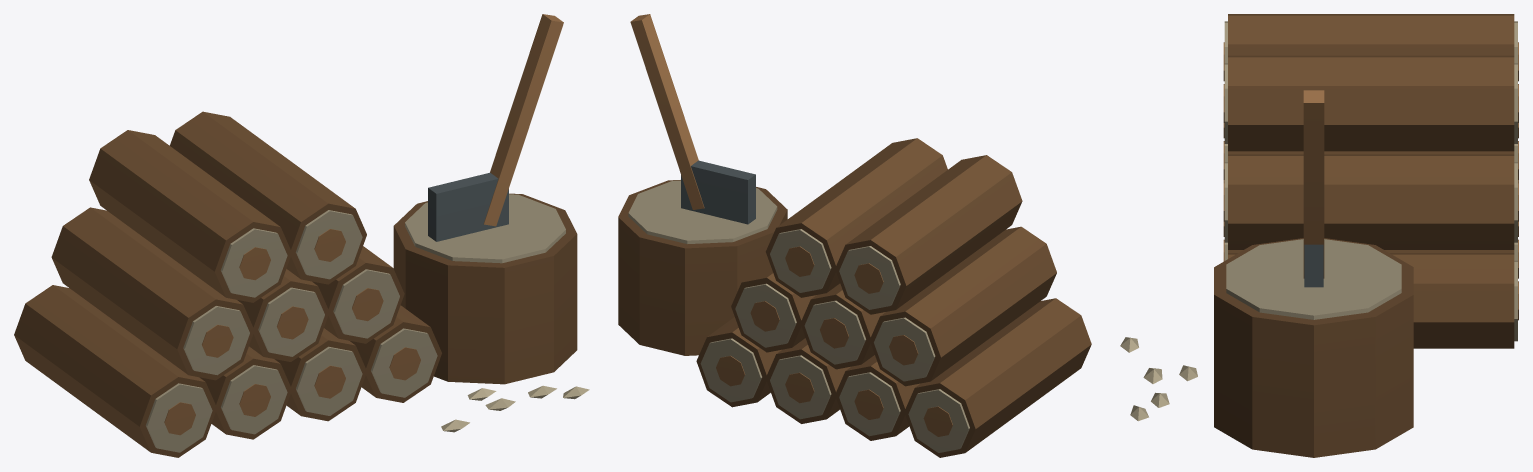
Rendered from town_woodpile.glb.
The picture shows the model from 3 angles, left to right: view 1: azimuth 30°, elevation 25°; view 2: azimuth 150°, elevation 25°; view 3: azimuth 270°, elevation 25°; orthographic projection. The views are drawn at different scales.
Visible parts, largest first — view 1: town_woodpile; view 2: town_woodpile; view 3: town_woodpile.
Part boxes in pixels (x1=…): town_woodpile: x1=14, y1=14, x2=589, y2=457; town_woodpile: x1=618, y1=14, x2=1091, y2=457; town_woodpile: x1=1120, y1=14, x2=1518, y2=457.
Bounding box in the file's own units: 1.91 × 1.24 × 1.25.
